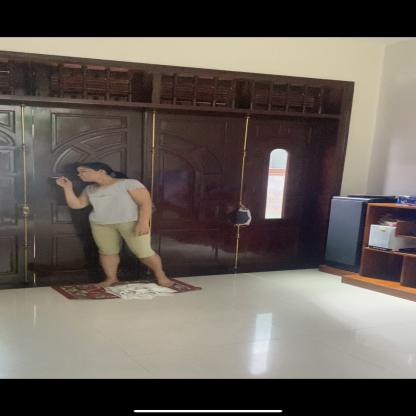cigarette: (50, 176, 62, 178)
person: (52, 160, 192, 292)
